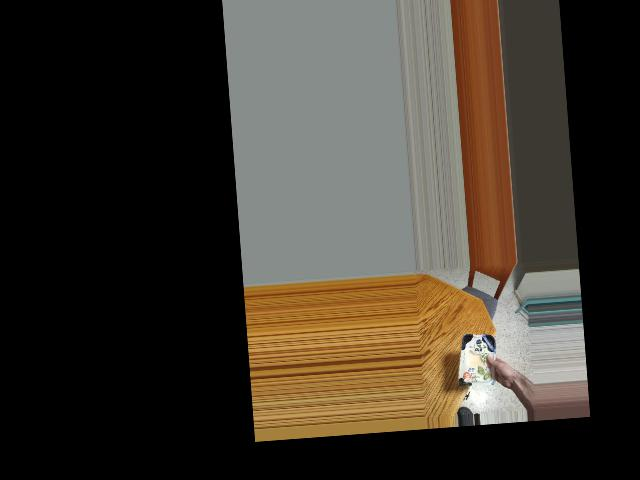cheese: (458, 334, 498, 383)
